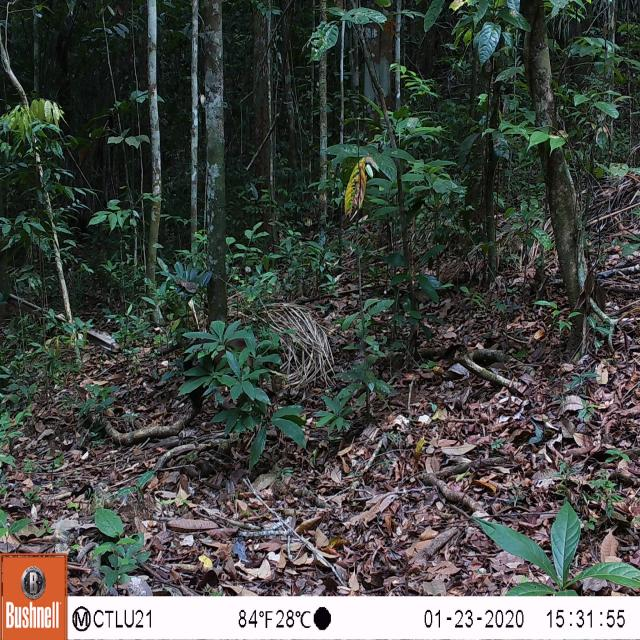Margarita Island Capuchin: (177, 311, 268, 423)
